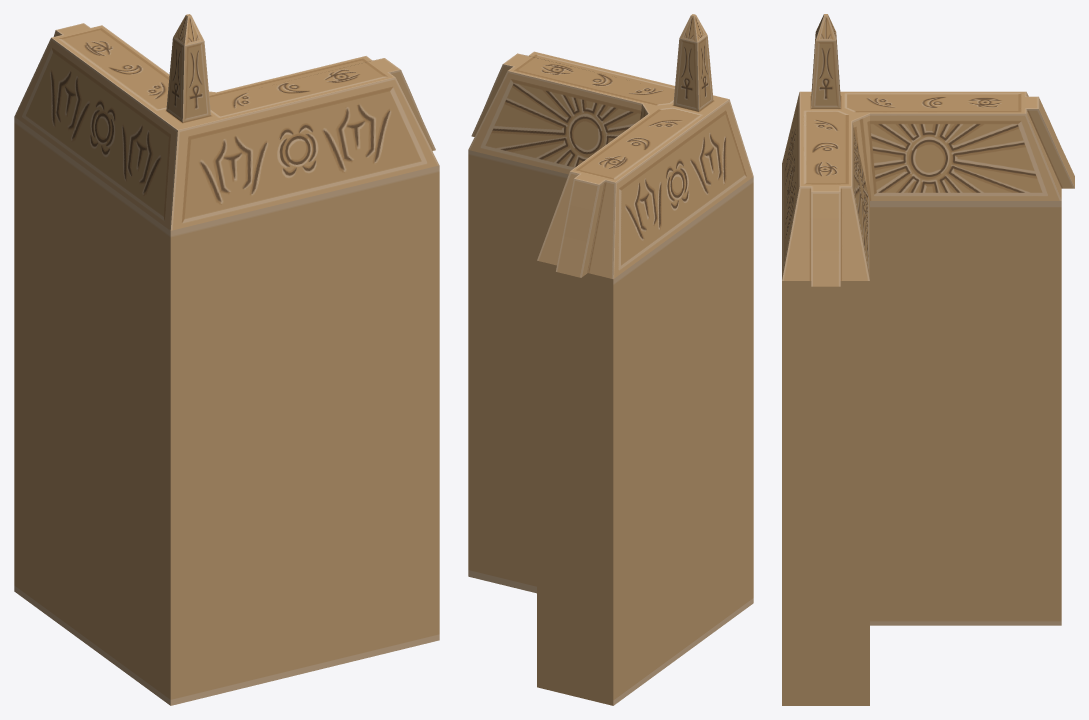
File: Corner.FBX
The picture shows the model from 3 angles, left to right: view 1: azimuth 30°, elevation 25°; view 2: azimuth 150°, elevation 25°; view 3: azimuth 270°, elevation 25°; orthographic projection. The views are drawn at different scales.
Visible parts, largest first — view 1: Corner; view 2: Corner; view 3: Corner.
Part boxes in pixels (x1,y1,x2,y2): Corner: [14, 14, 439, 705]; Corner: [468, 14, 753, 705]; Corner: [782, 14, 1074, 705].
Bounding box in the file's own units: 4.97 × 11.15 × 5.
